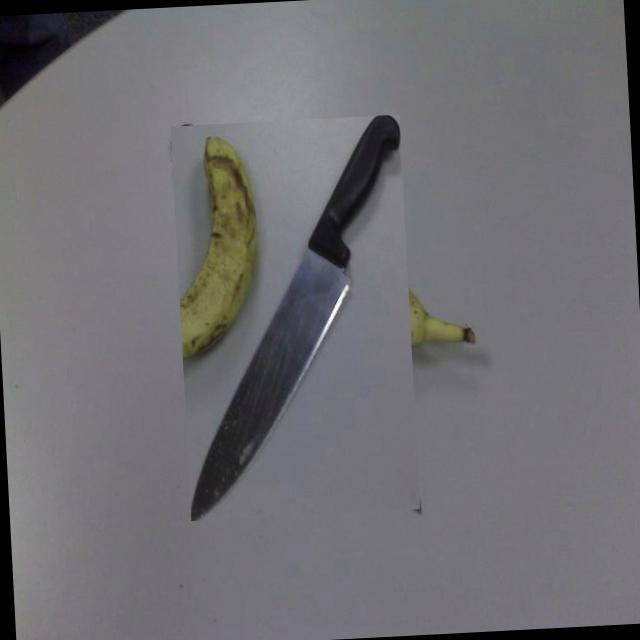Knife: (192, 115, 400, 521)
